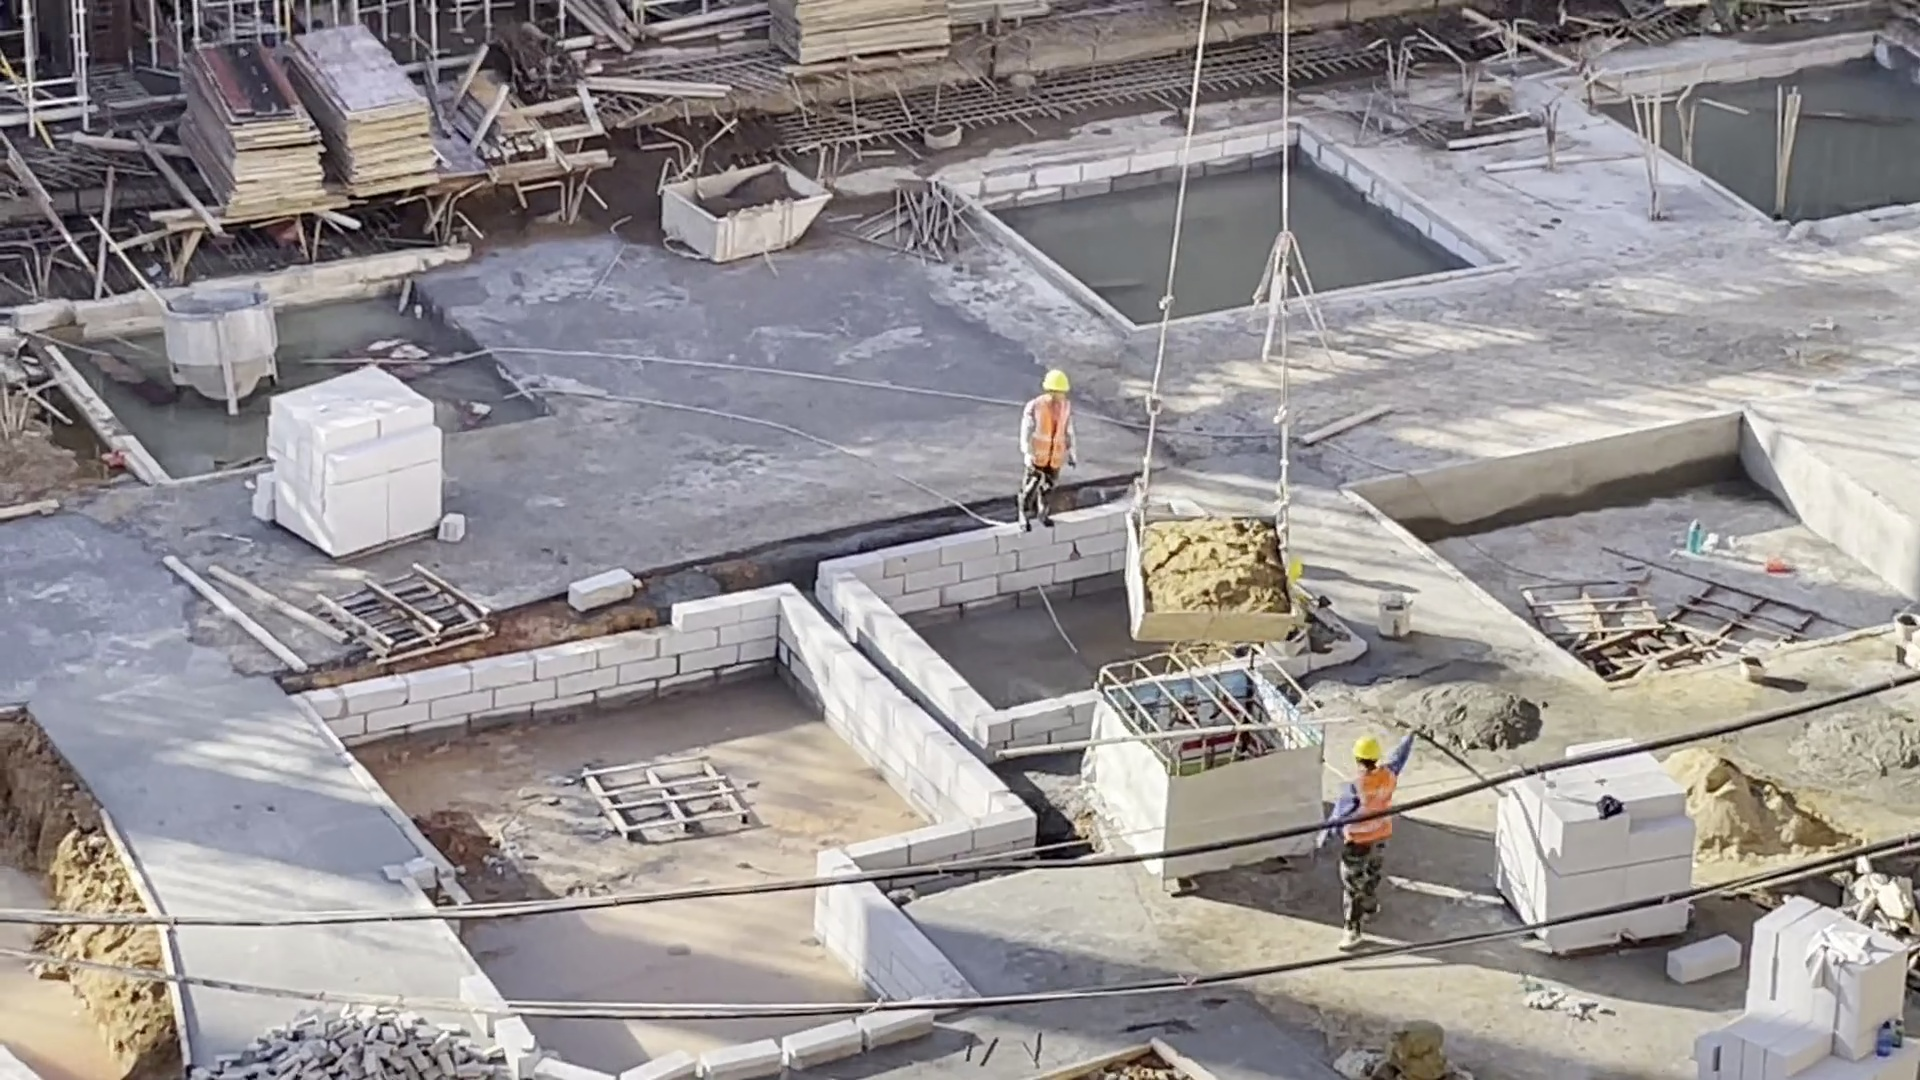board: (171, 35, 329, 224), (289, 20, 445, 202), (751, 5, 962, 76)
brick: (246, 364, 469, 556), (1693, 891, 1920, 1078), (1484, 785, 1697, 887)
helmet: (1349, 730, 1384, 764), (1041, 365, 1073, 398)
hopper: (1107, 494, 1304, 649), (660, 156, 841, 261), (160, 283, 287, 424)
person: (1317, 717, 1433, 952), (1014, 365, 1086, 532)
vest: (1023, 396, 1074, 471), (1345, 766, 1397, 809)
